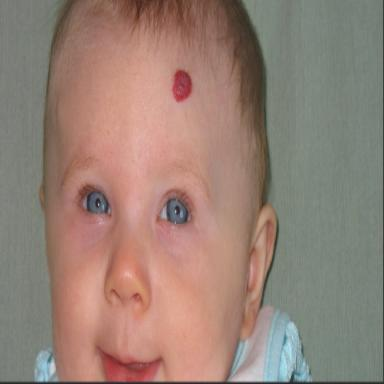Hemangiome: (173, 70, 191, 101)
